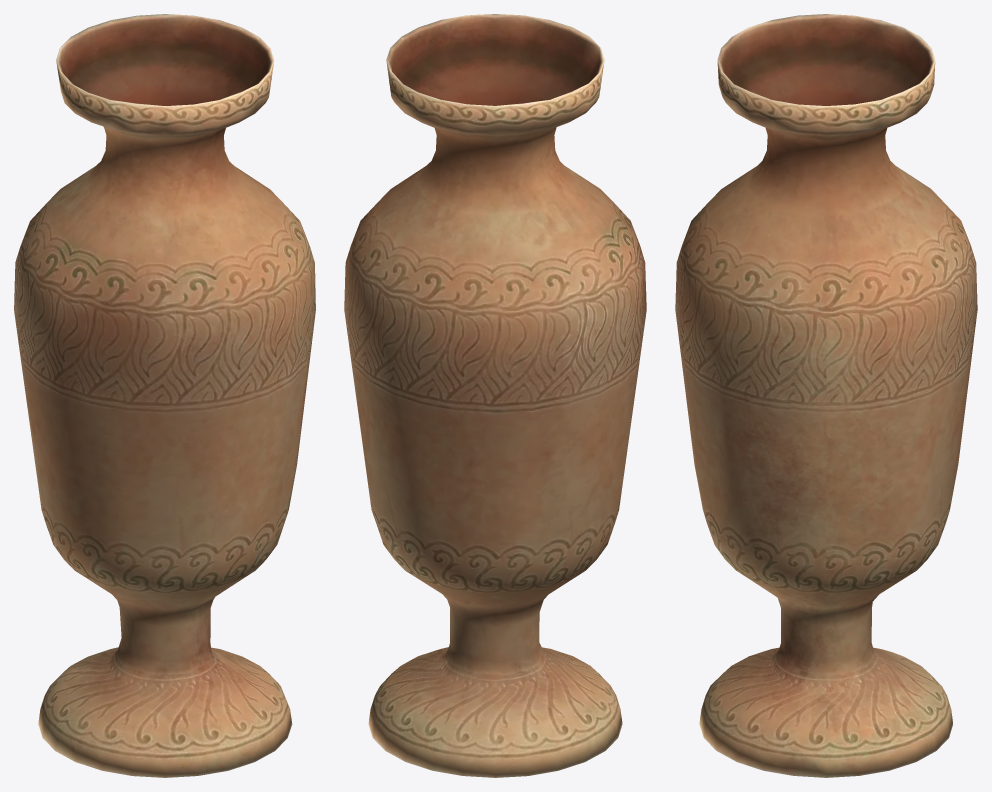
The model's file is brass_vase_03.glb.
3 renders of one model, left to right at view 1: azimuth 30°, elevation 25°; view 2: azimuth 150°, elevation 25°; view 3: azimuth 270°, elevation 25°, orthographic.
Visible parts, largest first — view 1: brass_vase_03; view 2: brass_vase_03; view 3: brass_vase_03.
Part boxes in pixels (x1,y1,x2,y2): brass_vase_03: (14, 14, 315, 777); brass_vase_03: (344, 14, 646, 777); brass_vase_03: (675, 14, 977, 777).
Size of the model in its own units: 0.0825 by 0.2004 by 0.0825.
1 material, 1 textured.
